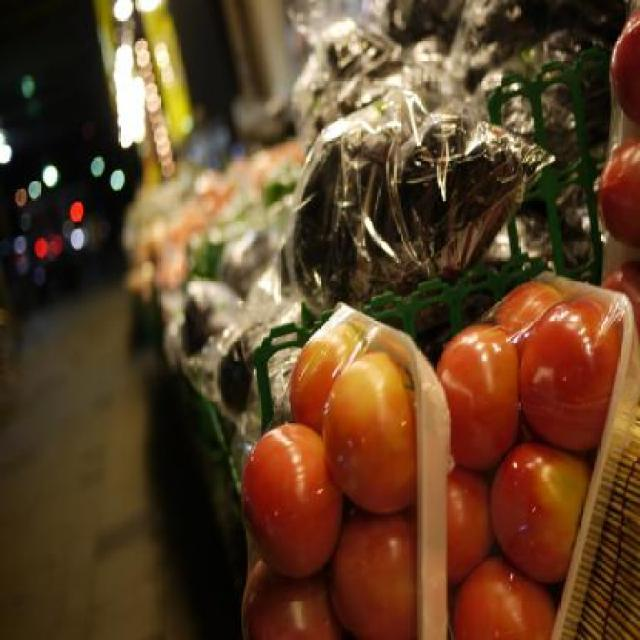Tomato: (240, 314, 622, 640), (433, 326, 522, 471)
